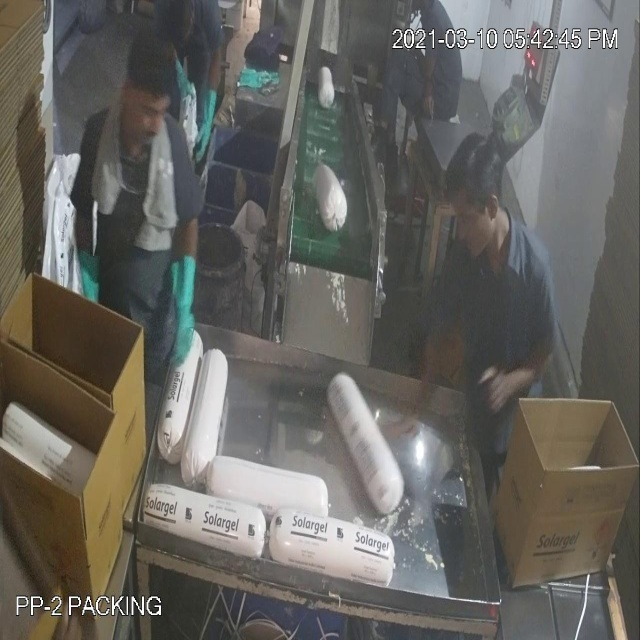Guantes: (164, 237, 208, 380)
Sin_guantes: (381, 308, 469, 458), (474, 324, 563, 431)
